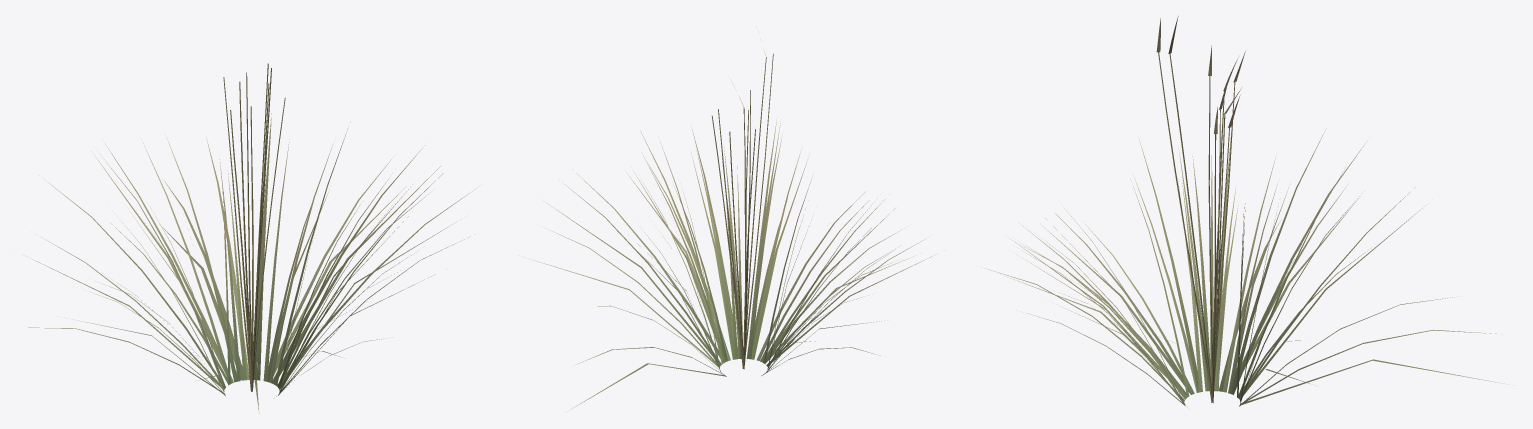
Rendered from marram.glb.
3 renders of one model, left to right at view 1: azimuth 30°, elevation 25°; view 2: azimuth 150°, elevation 25°; view 3: azimuth 270°, elevation 25°, orthographic. The views are drawn at different scales.
Visible parts, largest first — view 1: marram, marram-lo; view 2: marram, marram-lo; view 3: marram, marram-lo.
Part boxes in pixels (bbox=[...]): marram: bbox=[28, 63, 477, 396]; marram-lo: bbox=[30, 72, 454, 413]; marram: bbox=[545, 52, 924, 376]; marram-lo: bbox=[532, 90, 936, 412]; marram: bbox=[988, 16, 1501, 406]; marram-lo: bbox=[1005, 45, 1508, 404].
Size of the model in its own units: 1.37 by 1.22 by 1.54.
